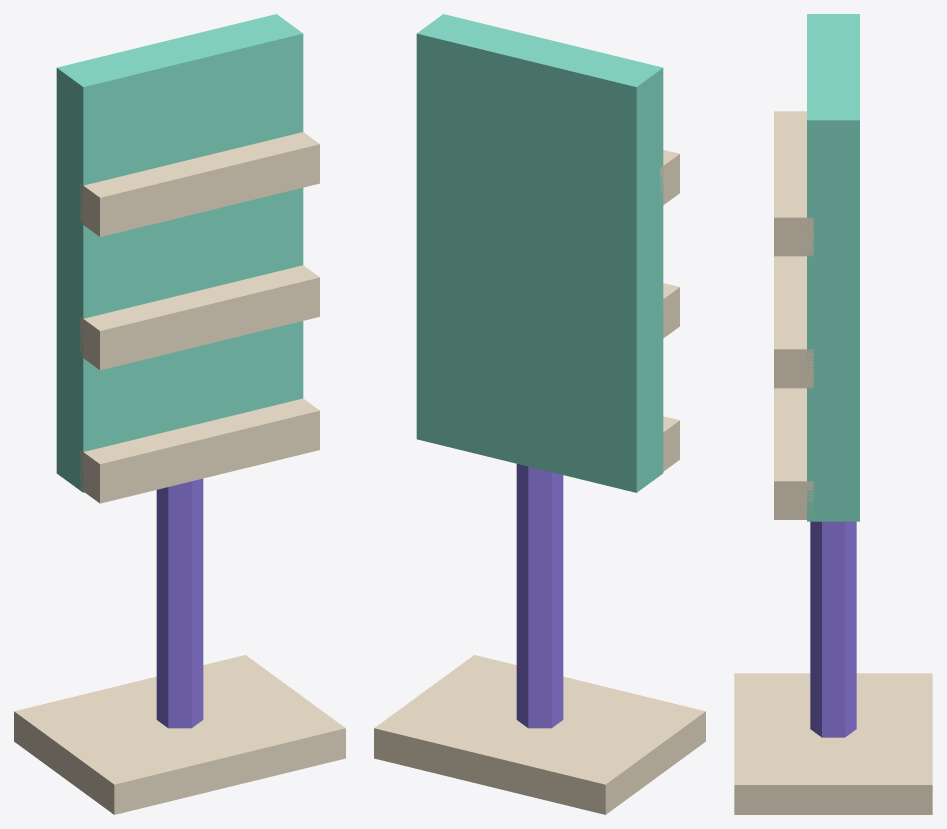
3 renders of one model, left to right at view 1: azimuth 30°, elevation 25°; view 2: azimuth 150°, elevation 25°; view 3: azimuth 270°, elevation 25°, orthographic.
Visible parts, largest first — view 1: Sloping pocket.002, Foot, Sloping pocket, Sloping pocket.001, Pocket lip.001, Pocket lip, Pocket lip.002, Stand; view 2: Sloping pocket.002, Sloping pocket, Sloping pocket.001, Foot, Stand, Pocket lip.002, Pocket lip.001, Pocket lip; view 3: Foot, Sloping pocket.002, Stand, Sloping pocket, Sloping pocket.001, Pocket lip.002, Pocket lip.001, Pocket lip.
Boxes of the visible parts, bbox=[...] form: Sloping pocket.002: bbox=[56, 14, 303, 226]; Foot: bbox=[14, 655, 345, 814]; Sloping pocket: bbox=[56, 321, 303, 492]; Sloping pocket.001: bbox=[56, 188, 303, 359]; Pocket lip.001: bbox=[80, 265, 319, 370]; Pocket lip: bbox=[80, 398, 319, 503]; Pocket lip.002: bbox=[80, 132, 319, 236]; Stand: bbox=[156, 478, 203, 728]; Sloping pocket.002: bbox=[416, 14, 663, 225]; Sloping pocket: bbox=[416, 300, 663, 492]; Sloping pocket.001: bbox=[416, 167, 663, 359]; Foot: bbox=[374, 655, 705, 814]; Stand: bbox=[516, 464, 563, 728]; Pocket lip.002: bbox=[660, 150, 679, 204]; Pocket lip.001: bbox=[660, 283, 679, 338]; Pocket lip: bbox=[663, 416, 679, 471]; Foot: bbox=[734, 673, 932, 814]; Sloping pocket.002: bbox=[807, 14, 859, 257]; Stand: bbox=[810, 521, 856, 737]; Sloping pocket: bbox=[807, 383, 859, 521]; Sloping pocket.001: bbox=[807, 252, 859, 389]; Pocket lip.002: bbox=[774, 111, 813, 256]; Pocket lip.001: bbox=[774, 256, 813, 388]; Pocket lip: bbox=[774, 388, 813, 519].
Bounding box in the file's own units: 40 × 116 × 30.
